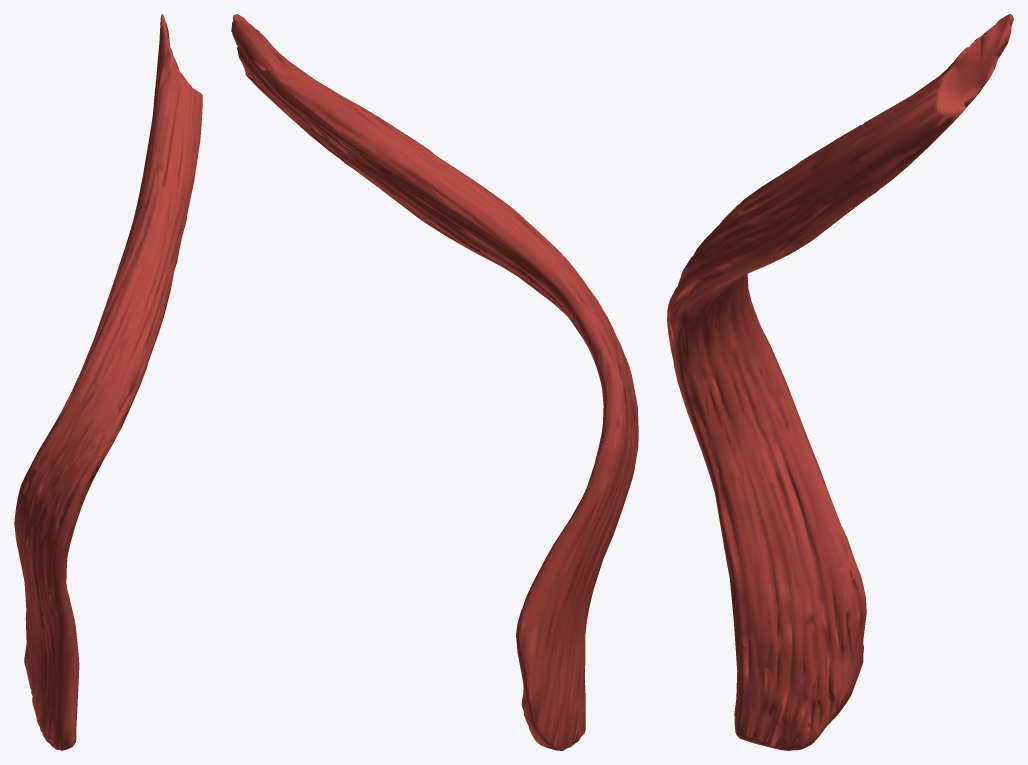
File: musculos-stylopharyngeus-muscle-l.glb
3 renders of one model, left to right at view 1: azimuth 30°, elevation 25°; view 2: azimuth 150°, elevation 25°; view 3: azimuth 270°, elevation 25°, orthographic. The views are drawn at different scales.
Parts seen in each view (by area): view 1: Stylopharyngeus muscle.l; view 2: Stylopharyngeus muscle.l; view 3: Stylopharyngeus muscle.l.
Boxes of the visible parts, x1,y1,x2,y2 form: Stylopharyngeus muscle.l: (14,14,202,750); Stylopharyngeus muscle.l: (231,14,638,750); Stylopharyngeus muscle.l: (667,14,1013,750).
Size of the model in its own units: 0.0277 by 0.0667 by 0.0243.
